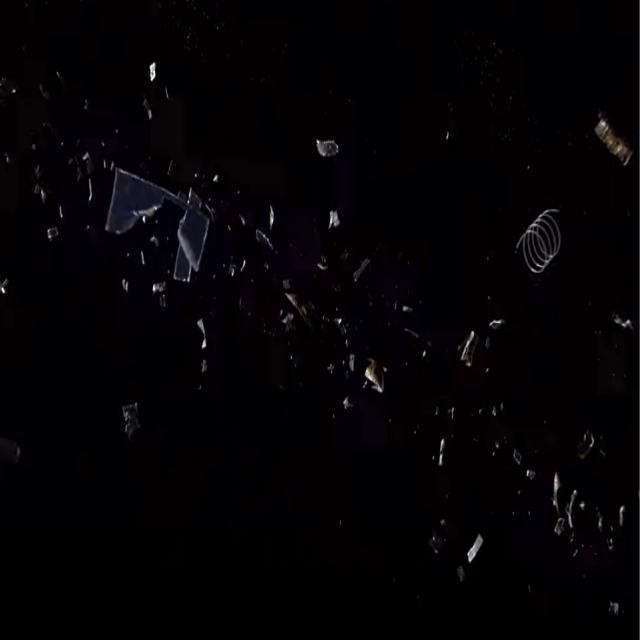large_debris: (102, 148, 214, 294), (507, 189, 568, 291), (589, 101, 636, 178), (548, 461, 582, 546), (303, 128, 351, 175), (356, 346, 390, 403), (117, 396, 144, 444), (458, 321, 481, 377), (461, 521, 486, 572)
